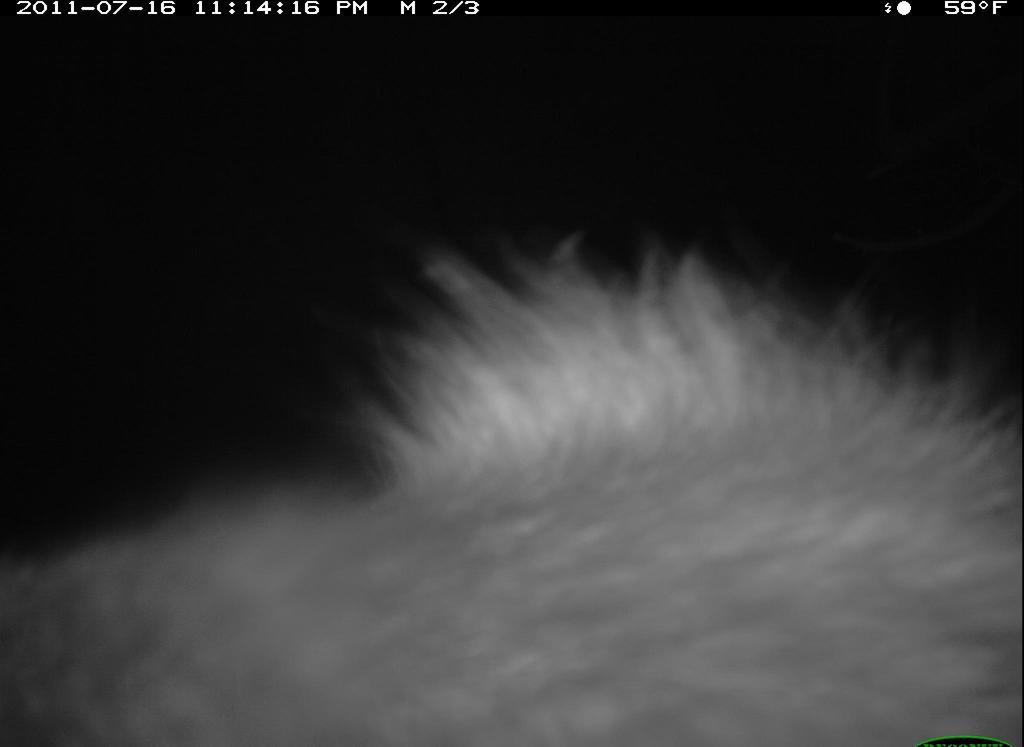raccoon: (2, 226, 1023, 745)
